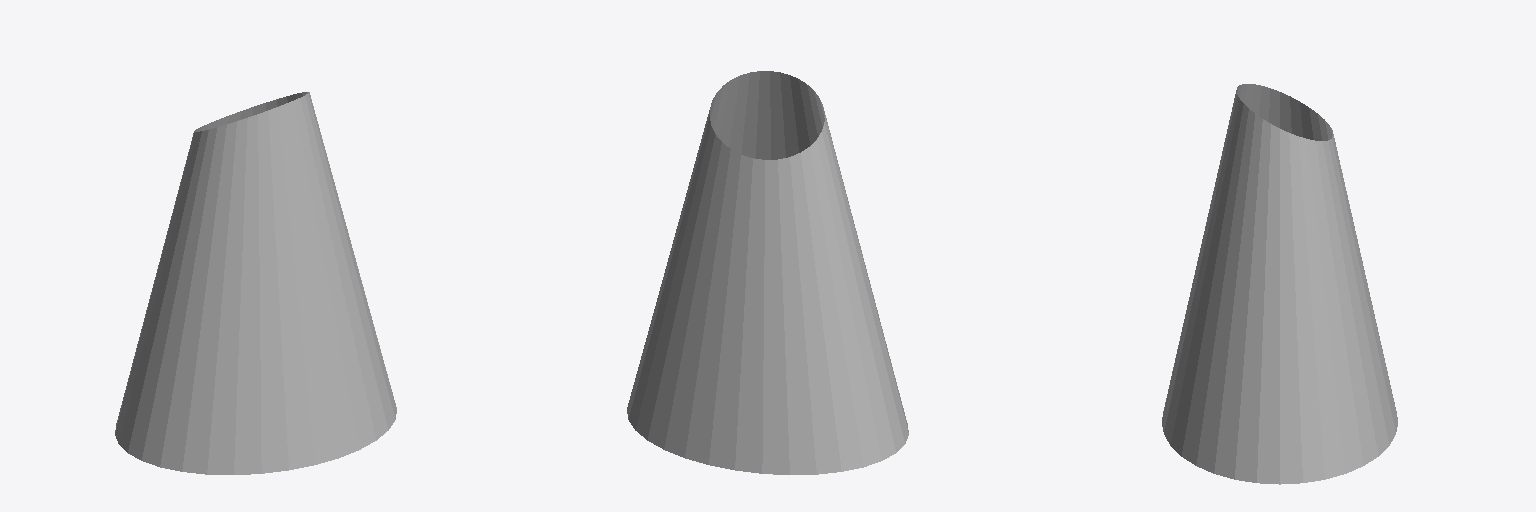
The model's file is cutted_cone2.obj.
3 views of the same model, side by side, from view 1: azimuth 30°, elevation 25°; view 2: azimuth 150°, elevation 25°; view 3: azimuth 270°, elevation 25° (orthographic).
Visible parts, largest first — view 1: Cone; view 2: Cone; view 3: Cone.
Part boxes in pixels (left/top/right/bottom): Cone: left=115, top=92, right=396, bottom=474; Cone: left=627, top=71, right=908, bottom=474; Cone: left=1162, top=84, right=1397, bottom=484.
Bounding box in the file's own units: 2.1 × 2.59 × 1.68.